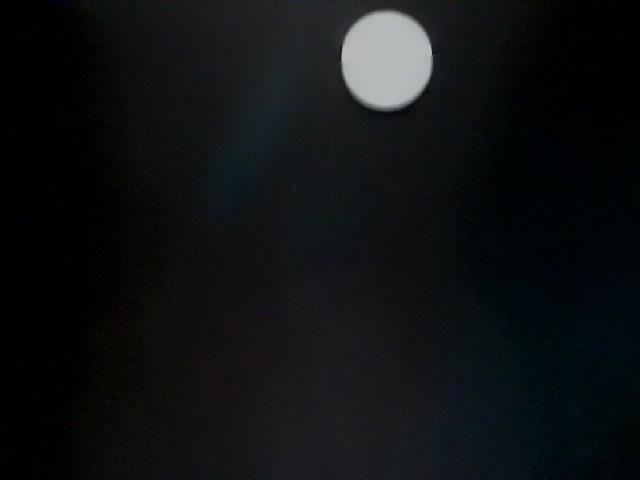CYLJ: (494, 1, 637, 209)
